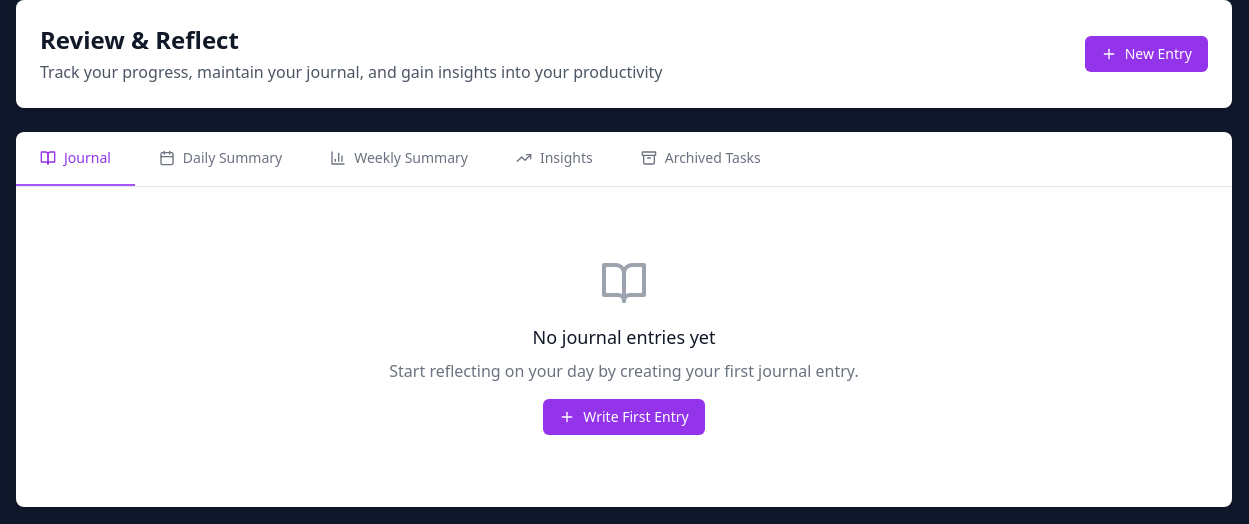
Test: TaskReview › Daily Summary Tab › should show empty state when no data
Click the button "Daily Summary".
click(221, 159)  # box top-left (135, 132), bottom-right (306, 186)
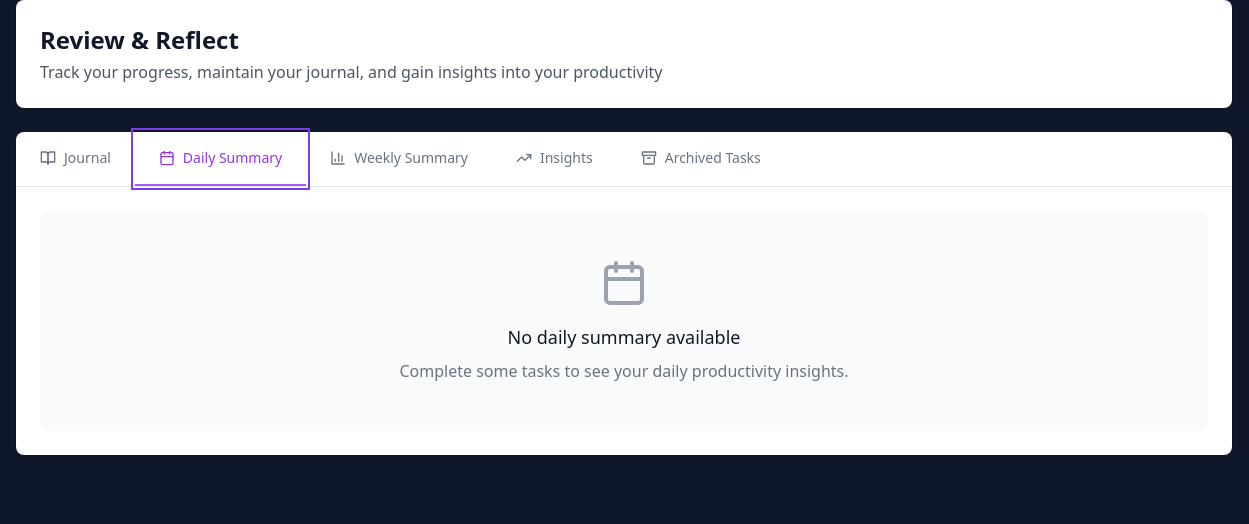
Now the heading "No daily summary available" is shown, box top-left (508, 325), bottom-right (740, 349)
